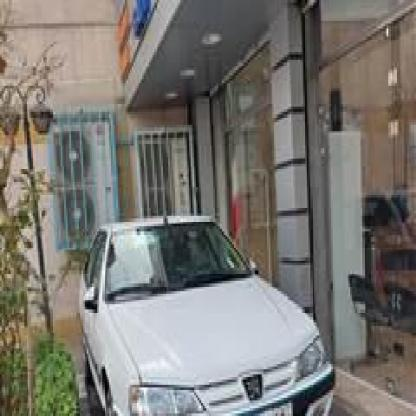Car: (73, 210, 338, 416)
